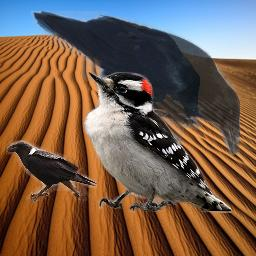Crow: (31, 11, 240, 155), (6, 140, 97, 204)
Woodpecker: (83, 72, 231, 213)
